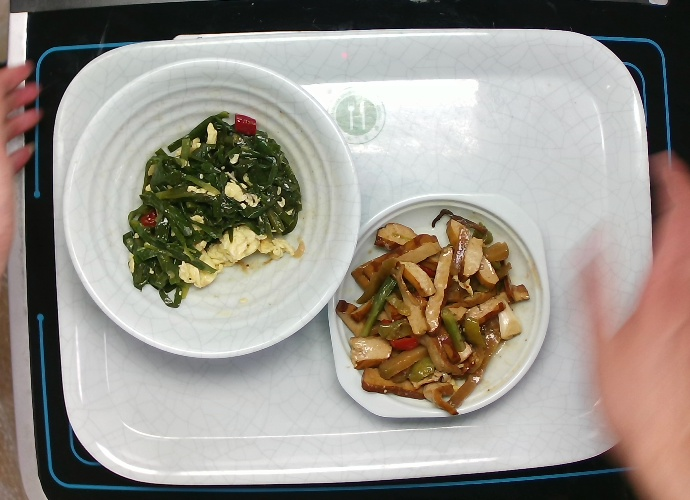JYsf-Shuang_Er_Pan: (317, 187, 559, 424)
JYsf-Xiao_Tang_Wan: (54, 55, 360, 371)
